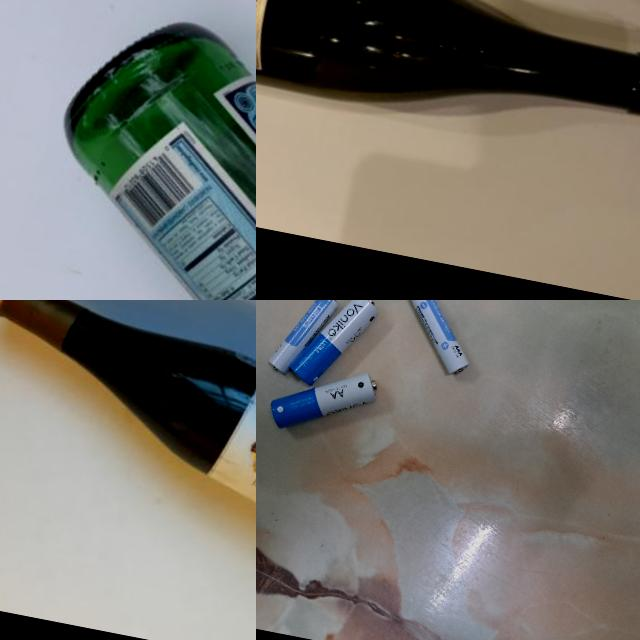bateria: (266, 354, 382, 447), (285, 300, 381, 395), (397, 300, 482, 378), (264, 300, 342, 382)
garrafa de vidro: (17, 1, 256, 300), (0, 300, 256, 569), (256, 0, 640, 162)
